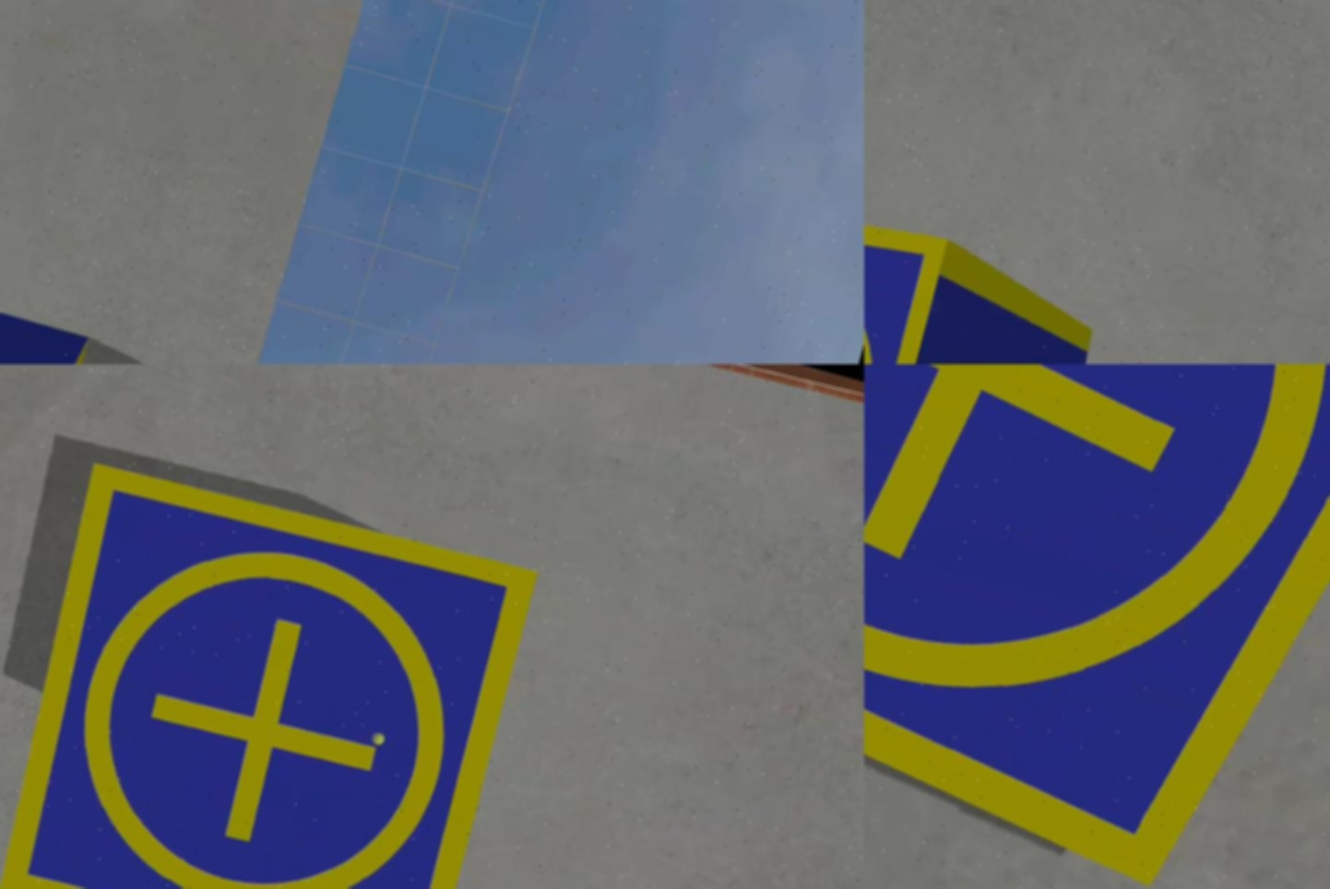small_base: (865, 365, 1330, 889), (1, 453, 538, 889)
